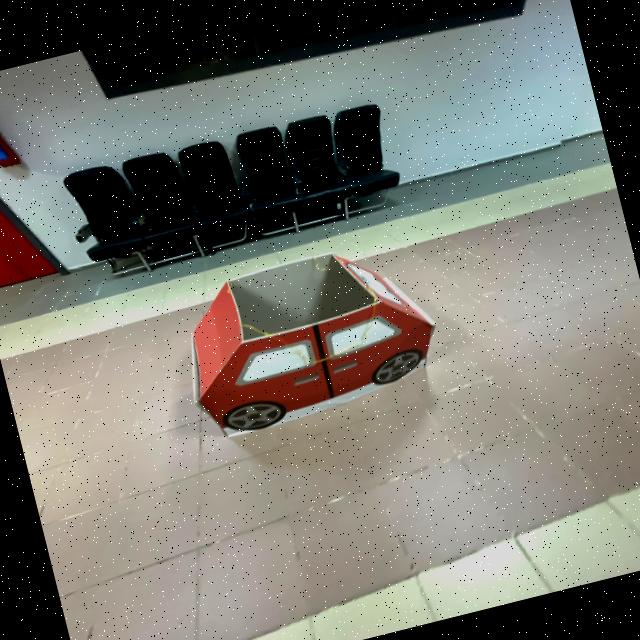red_car: (164, 220, 466, 454)
